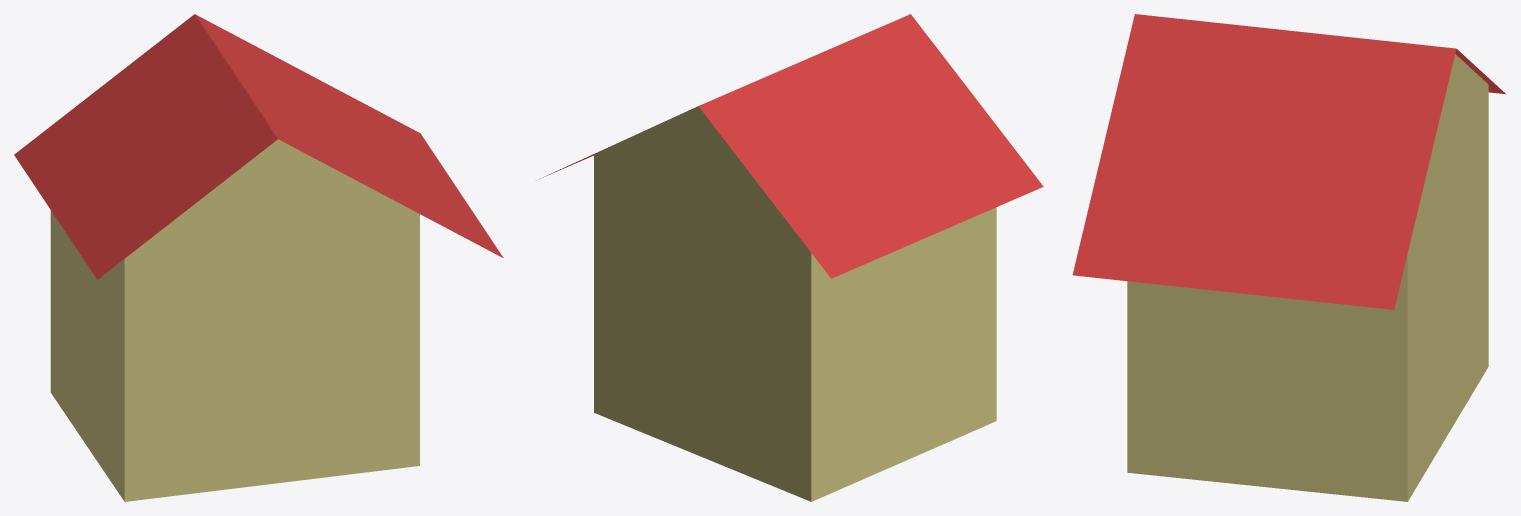
3 views of the same model, side by side, from view 1: azimuth 30°, elevation 25°; view 2: azimuth 150°, elevation 25°; view 3: azimuth 270°, elevation 25° (orthographic). The views are drawn at different scales.
Bounding box in the file's own units: 18.96 × 15.72 × 15.43.
